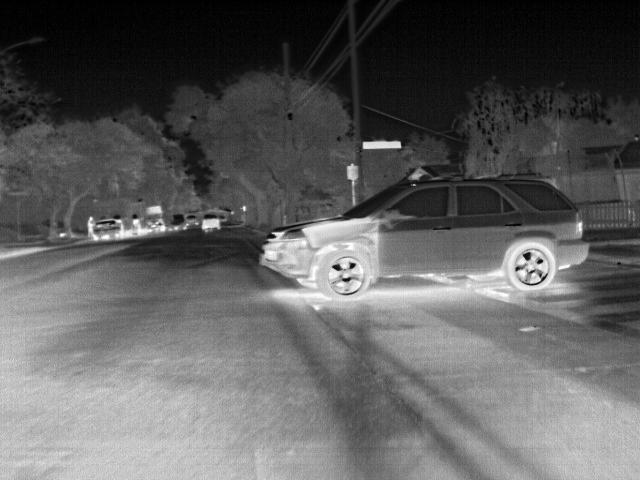car: (257, 175, 592, 304), (93, 216, 124, 240), (140, 206, 161, 231), (200, 214, 221, 233), (182, 213, 196, 228), (169, 213, 181, 228)
person: (128, 214, 143, 232), (86, 214, 95, 236)
